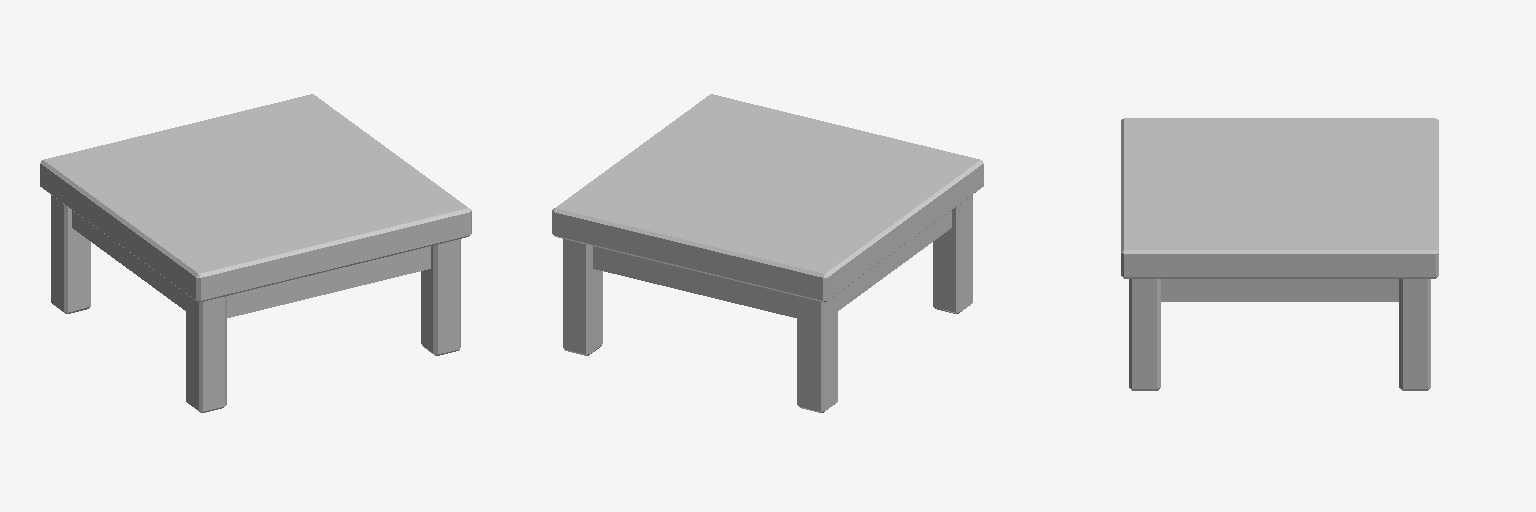
File: table_medium.obj
3 views of the same model, side by side, from view 1: azimuth 30°, elevation 25°; view 2: azimuth 150°, elevation 25°; view 3: azimuth 270°, elevation 25° (orthographic).
Parts seen in each view (by area): view 1: table_medium_Cube.003; view 2: table_medium_Cube.003; view 3: table_medium_Cube.003.
Part boxes in pixels (left/top/right/bottom): table_medium_Cube.003: left=40, top=94, right=471, bottom=412; table_medium_Cube.003: left=552, top=94, right=983, bottom=412; table_medium_Cube.003: left=1121, top=118, right=1438, bottom=390.
Bounding box in the file's own units: 2 × 1 × 2.